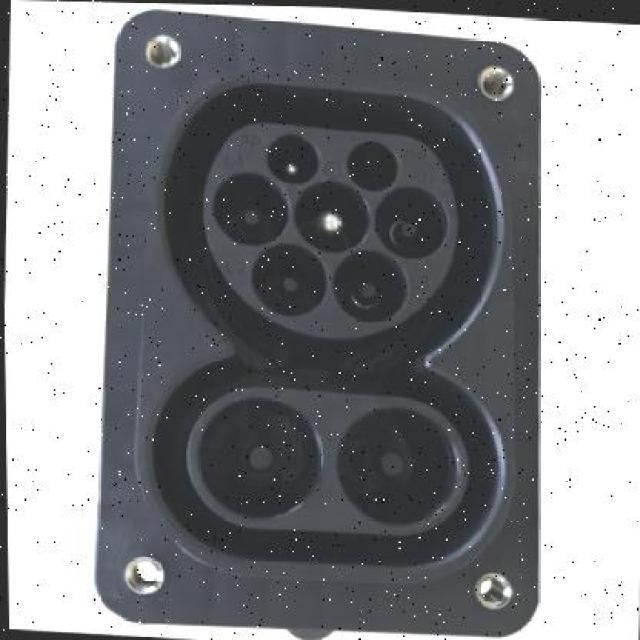CCS2: (128, 60, 562, 583)
